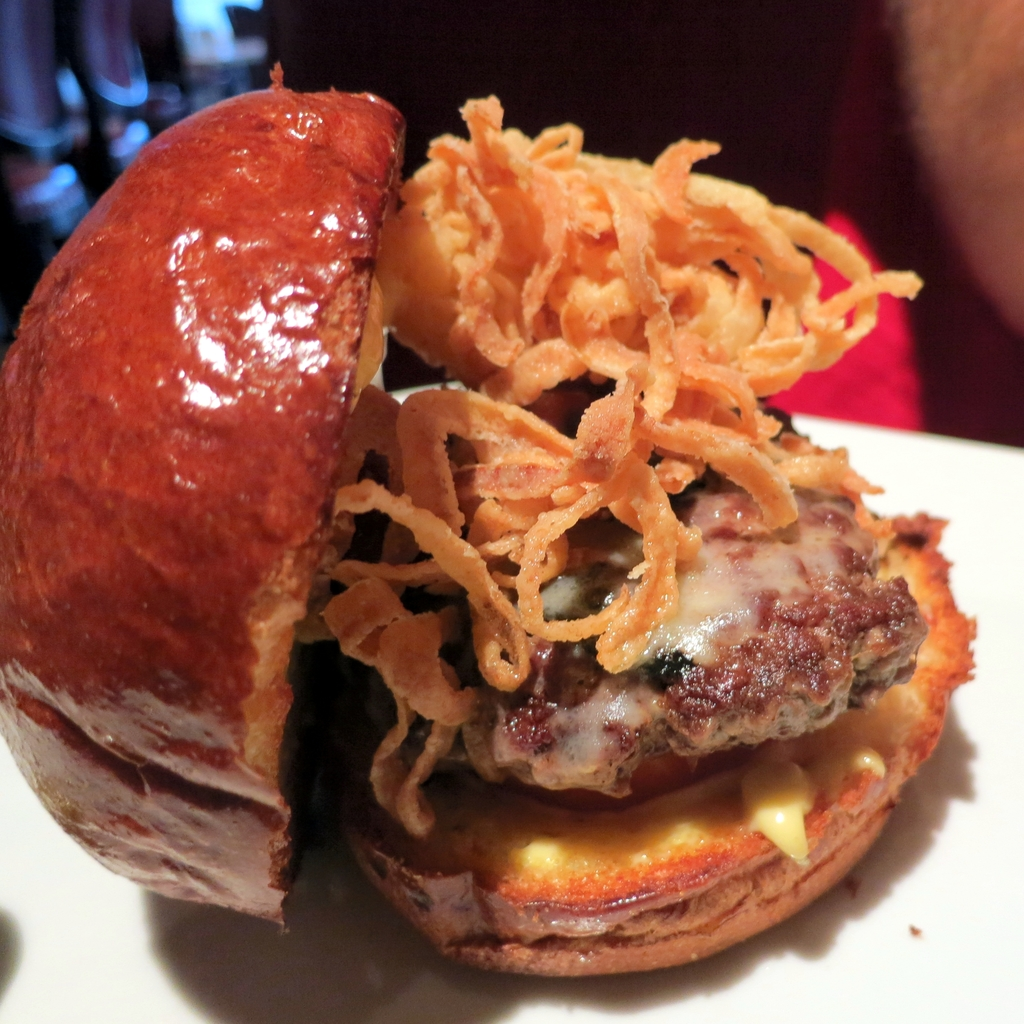Hamburger: (0, 58, 976, 970)
